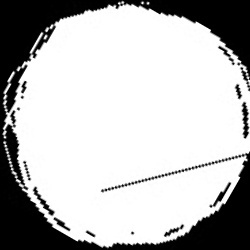spot: (3, 6, 248, 248)
